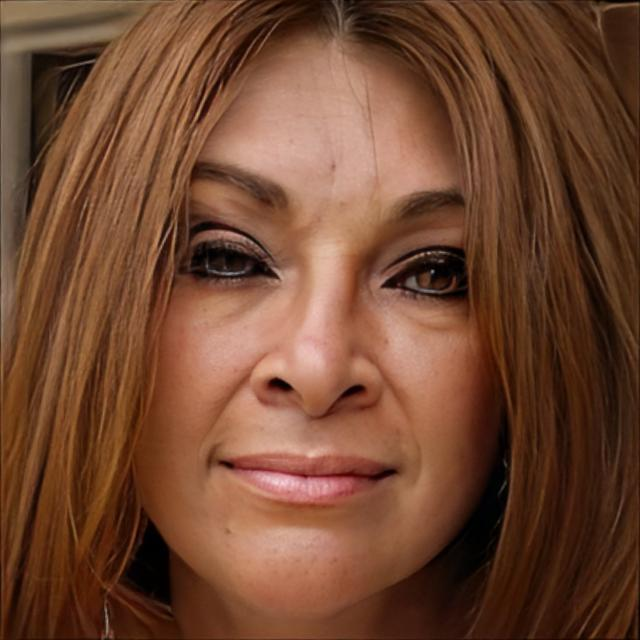disgust: (132, 24, 500, 622)
